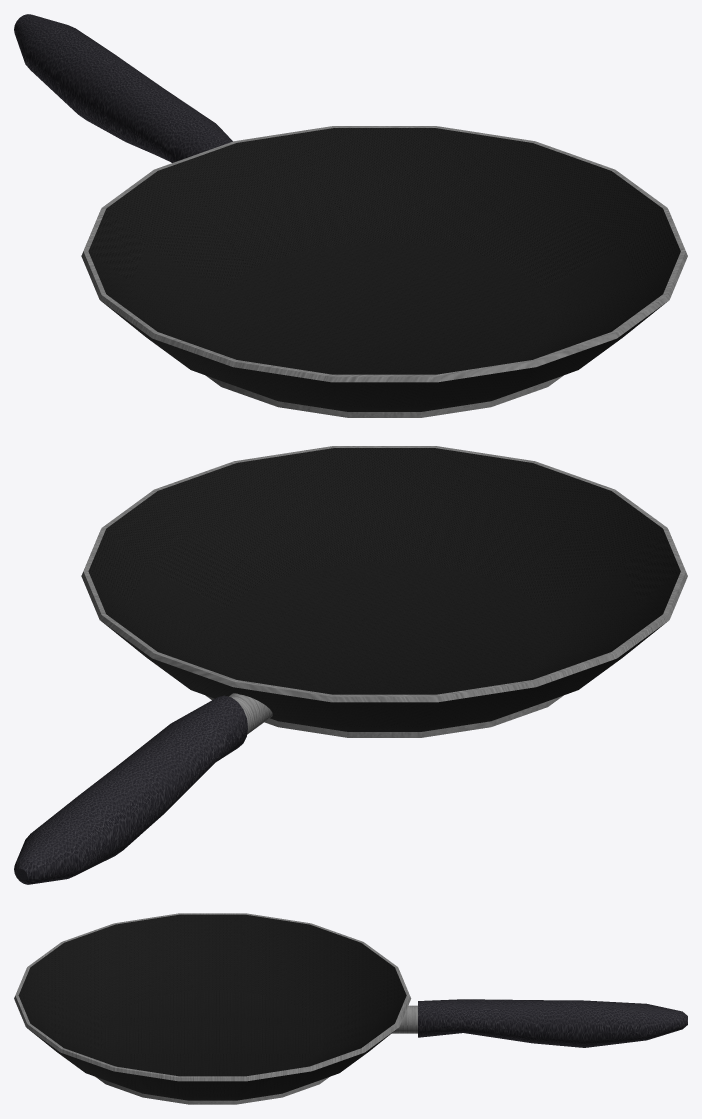
File: Frying pan.FBX
3 views of the same model, one above another, from view 1: azimuth 30°, elevation 25°; view 2: azimuth 150°, elevation 25°; view 3: azimuth 270°, elevation 25° (orthographic). The views are drawn at different scales.
Parts seen in each view (by area): view 1: Frying pan; view 2: Frying pan; view 3: Frying pan.
Boxes of the visible parts, x1,y1,x2,y2 form: Frying pan: (14, 14, 687, 417); Frying pan: (14, 446, 687, 884); Frying pan: (14, 913, 687, 1104).
Bounding box in the file's own units: 27.62 × 3.96 × 47.58.
Materials: 3 (3 with a texture image).
